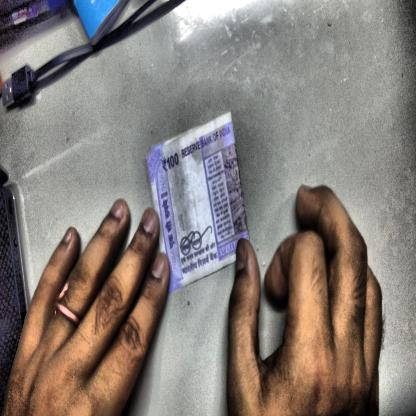Rs100: (159, 149, 182, 178)
